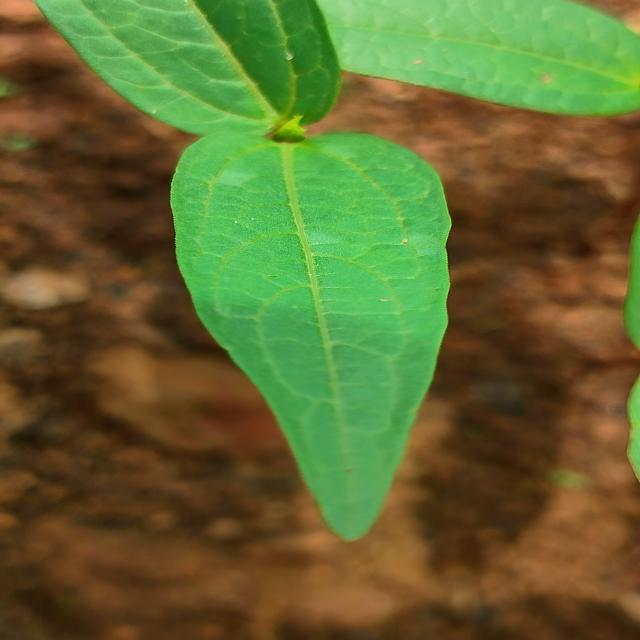Black gram_healthy: (167, 122, 454, 539), (42, 0, 342, 134), (327, 0, 640, 119)
